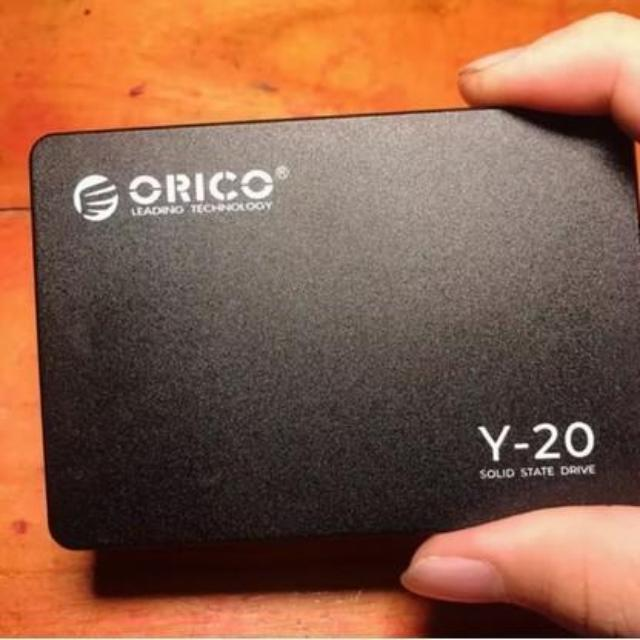DISK: (28, 81, 640, 558)
